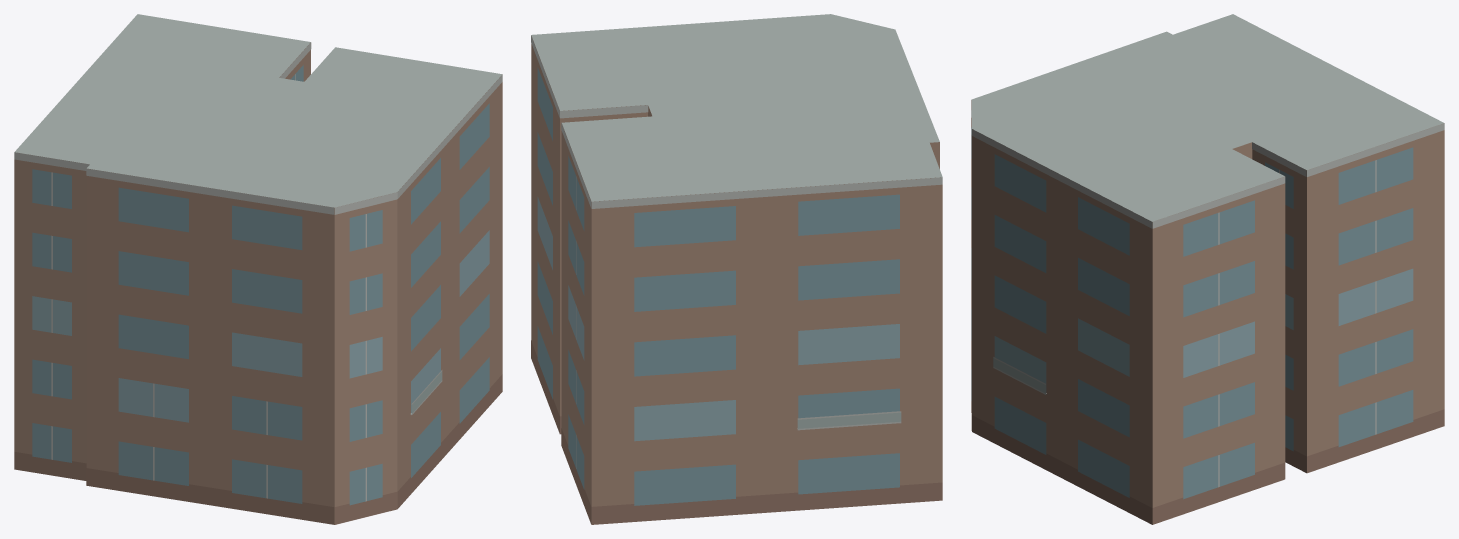
File: survey-upis-32960467.glb
3 views of the same model, side by side, from view 1: azimuth 30°, elevation 25°; view 2: azimuth 150°, elevation 25°; view 3: azimuth 270°, elevation 25° (orthographic). The views are drawn at different scales.
Visible parts, largest first — view 1: survey-upis-32960467.tmp; view 2: survey-upis-32960467.tmp; view 3: survey-upis-32960467.tmp.
Part boxes in pixels (bbox=[...]): survey-upis-32960467.tmp: bbox=[14, 14, 502, 524]; survey-upis-32960467.tmp: bbox=[531, 14, 942, 524]; survey-upis-32960467.tmp: bbox=[971, 14, 1444, 524].
Bounding box in the file's own units: 15.61 × 10.6 × 15.01.
